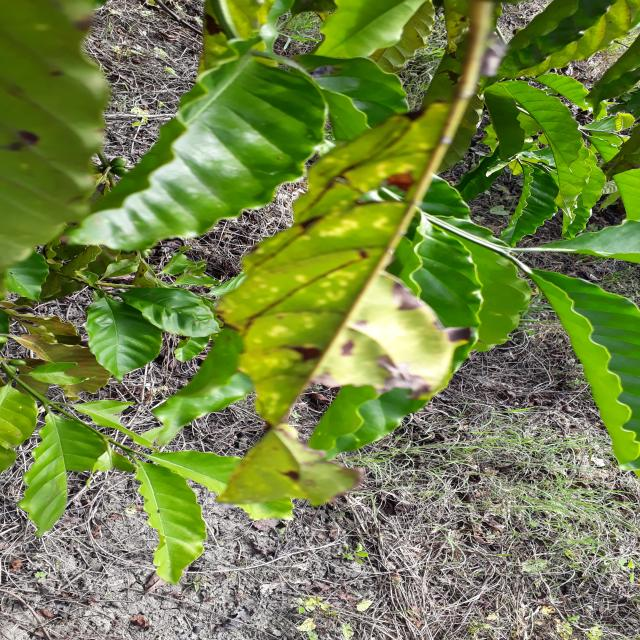Enfermedad-Roya: (215, 40, 475, 515)
